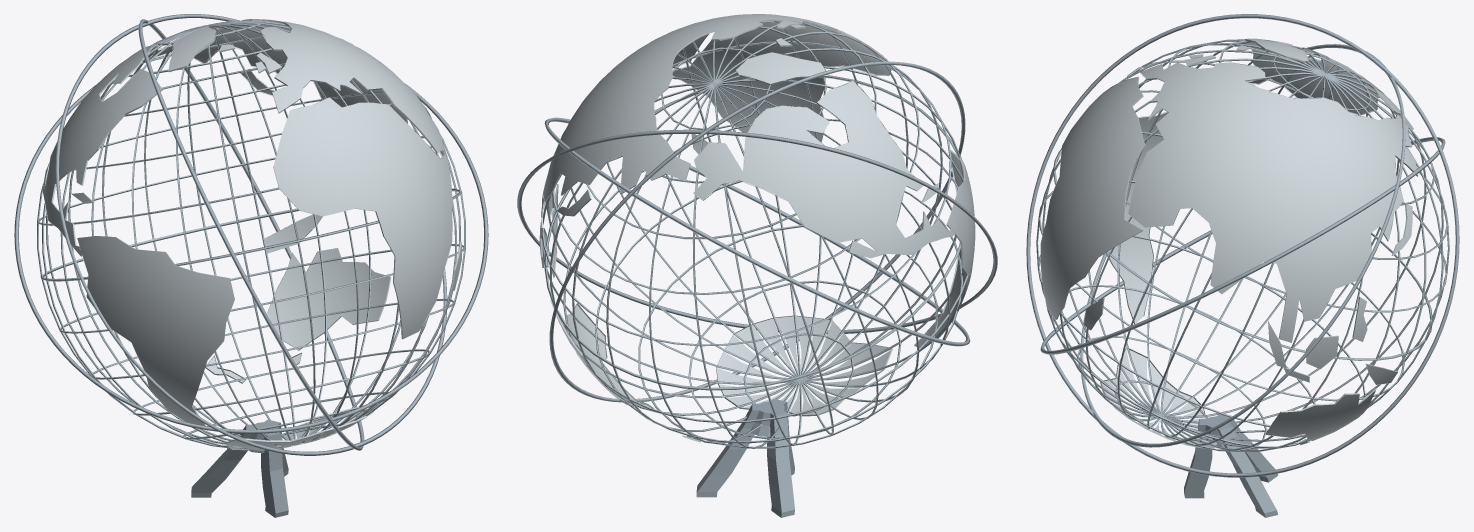
Rendered from unisphere.glb.
3 views of the same model, side by side, from view 1: azimuth 30°, elevation 25°; view 2: azimuth 150°, elevation 25°; view 3: azimuth 270°, elevation 25° (orthographic). The views are drawn at different scales.
Visible parts, largest first — view 1: Unisphere; view 2: Unisphere; view 3: Unisphere.
Part boxes in pixels (x1,y1,x2,y2): Unisphere: (14, 14, 488, 517); Unisphere: (517, 14, 997, 517); Unisphere: (1026, 14, 1459, 517).
Bounding box in the file's own units: 39.67 × 42.94 × 38.57.
